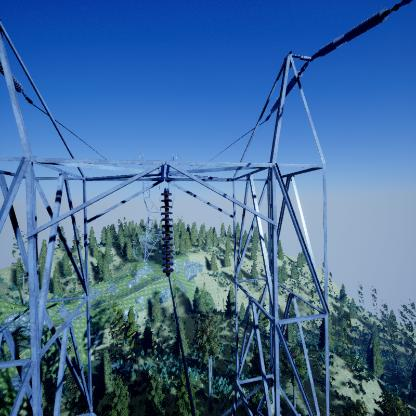insulator: (160, 191, 175, 277)
